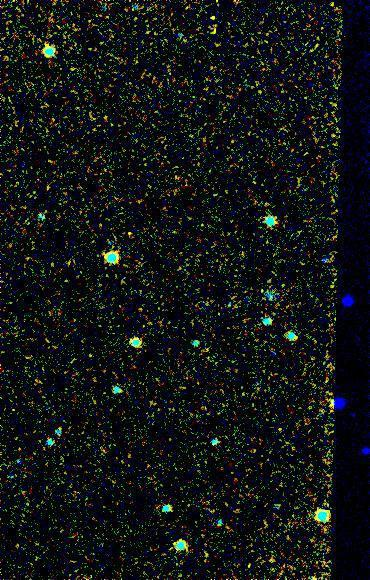star: (198, 6, 228, 36)
